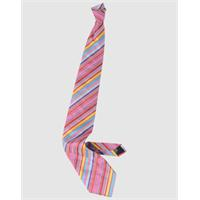tie: (62, 2, 127, 196)
